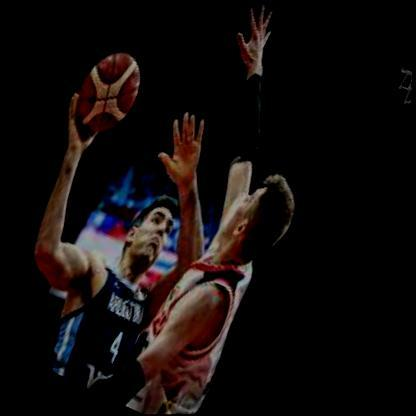basketball: (63, 44, 153, 144)
